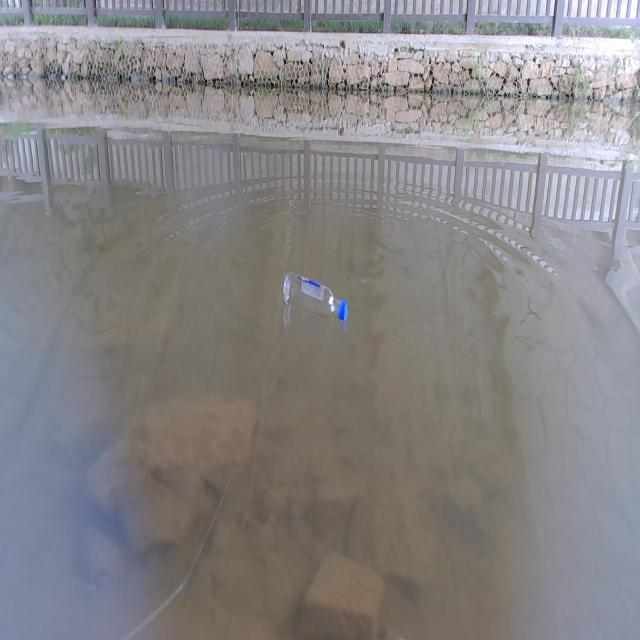bottle: (268, 256, 368, 338)
